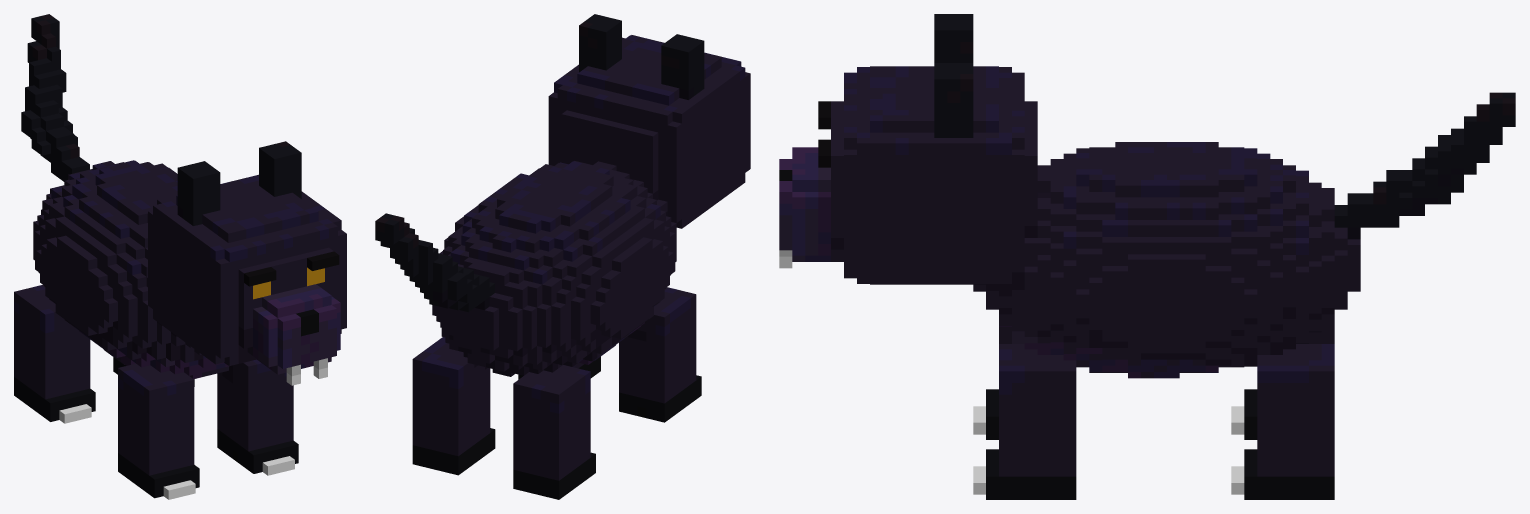
Rendered from Mon_ClawCat.glb.
3 renders of one model, left to right at view 1: azimuth 30°, elevation 25°; view 2: azimuth 150°, elevation 25°; view 3: azimuth 270°, elevation 25°, orthographic. The views are drawn at different scales.
Visible parts, largest first — view 1: Head, Body, LegFL, LegBL, LegFR, Tail; view 2: Body, Head, LegBL, LegBR, LegFL, Tail; view 3: Body, Head, LegBR, LegFR, Tail, LegBL, LegFL.
Part boxes in pixels (x1,y1,x2,y2): Head: (148,141,346,385); Body: (33,160,229,379); LegFL: (118,363,199,499); LegBL: (14,285,95,423); LegFR: (217,359,298,475); Tail: (21,14,89,181); Body: (432,161,676,376); Head: (548,14,750,228); LegBL: (513,365,595,499); LegBR: (412,337,495,475); LegFL: (619,287,701,422); Tail: (375,213,494,312); Body: (973,142,1360,378); Head: (779,14,1037,284); LegBR: (1231,344,1334,499); LegFR: (973,344,1076,499); Tail: (1334,92,1515,239); LegBL: (1231,326,1334,439); LegFL: (973,326,1011,439).
Size of the model in its own units: 4.5 by 8.75 by 14.25.
Materials: 1 (1 with a texture image).
